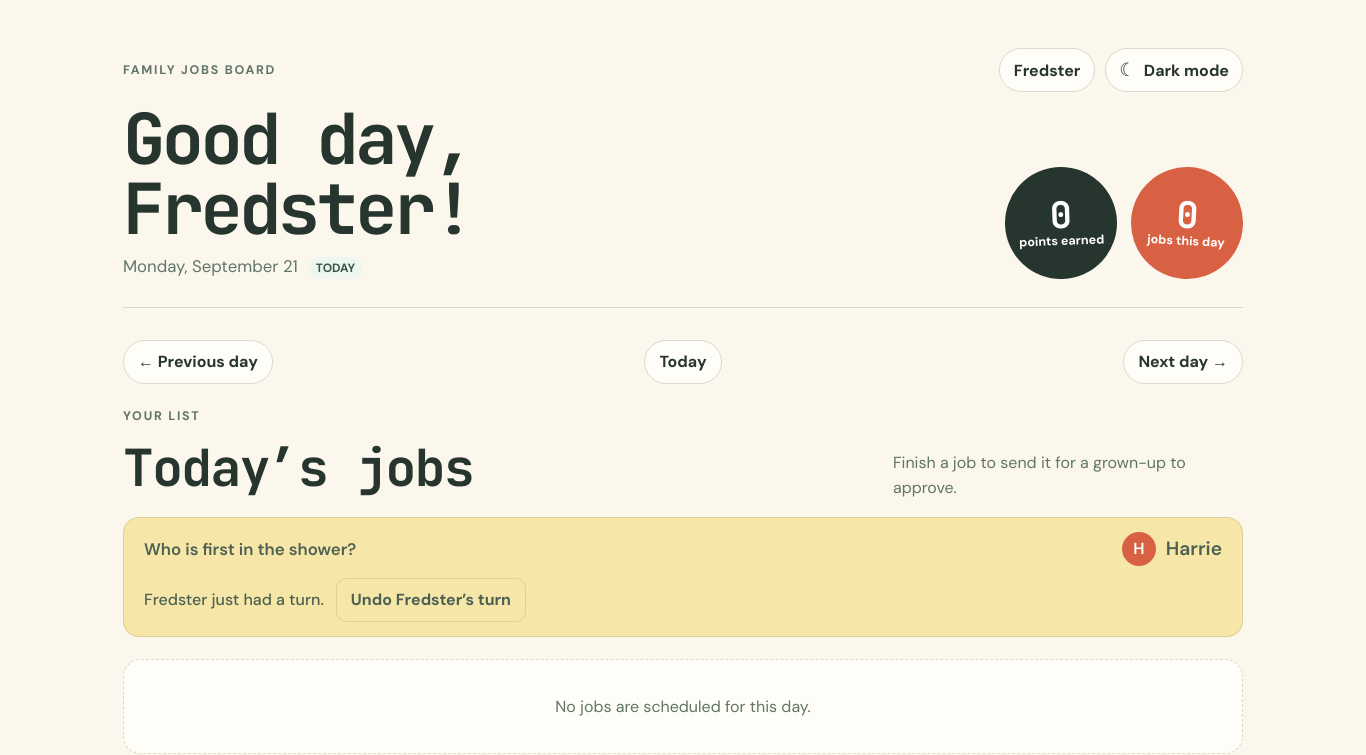
Test: Whose Turn Is It? › offers an undo once a two-child turn has passed to the other child
The image size is (1366, 755).
Expected: the text "Harrie" is shown, [1166,536,1222,561]
Expected: the text "Fredster just had a turn." is shown, [144,589,324,610]
Click the button "Undo Fredster’s turn": click(431, 600) [336,578,526,622]
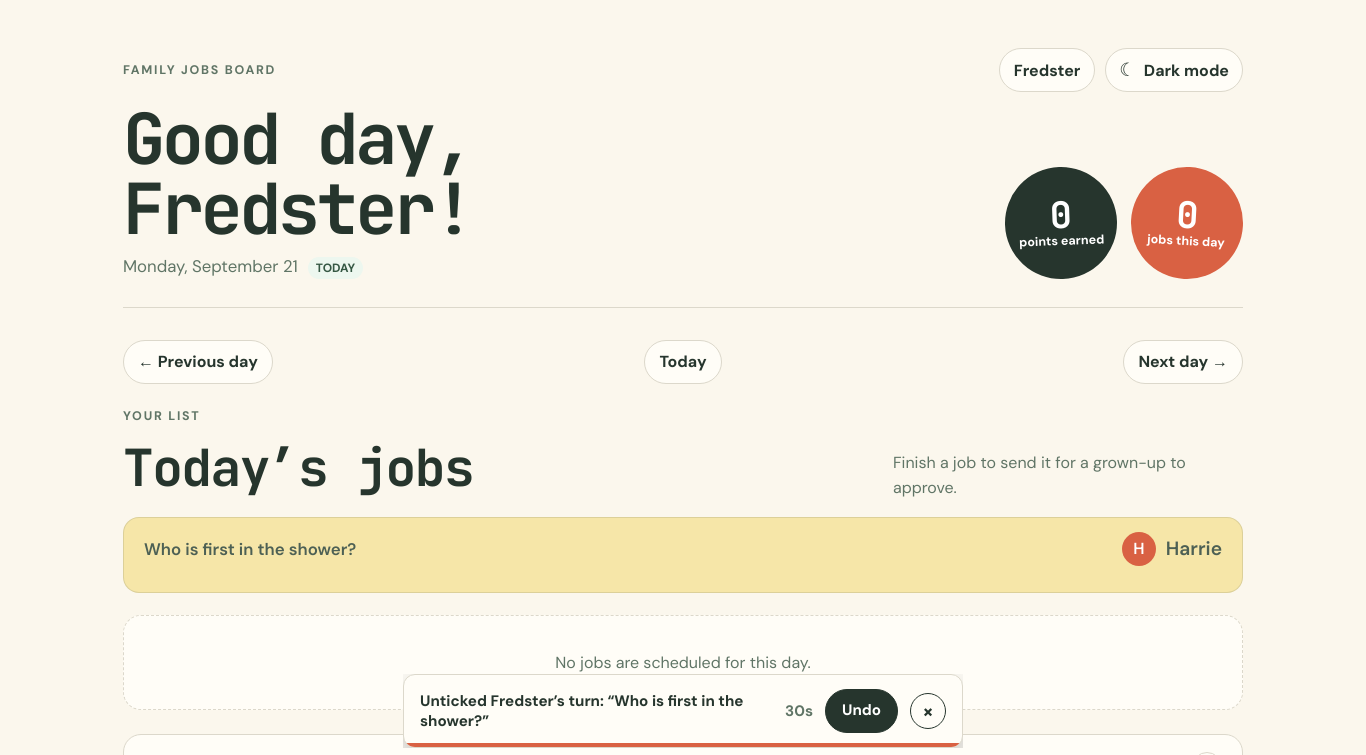
Now the text "Fredster just had a turn." is gone
Click the button named "Dismiss and save now": click(928, 711) [910,693,946,729]
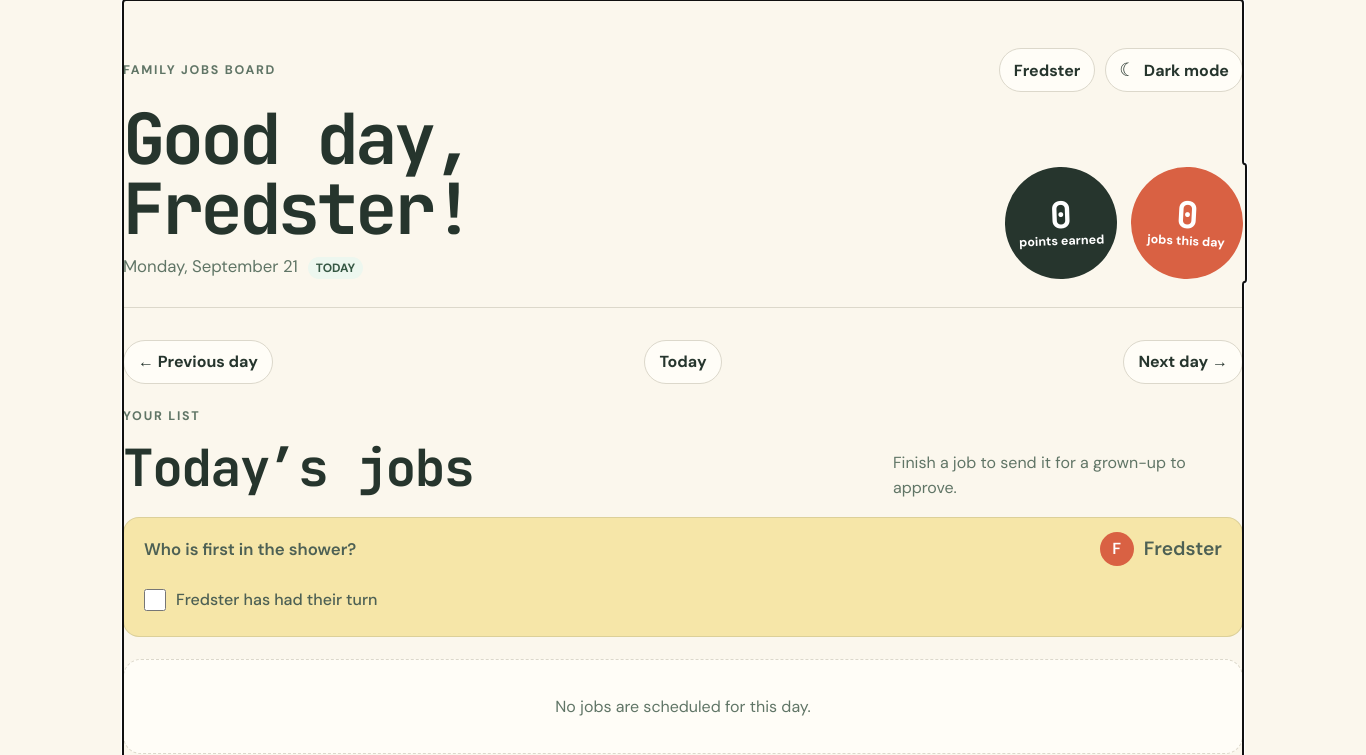
Now the checkbox labelled "Fredster has had their turn" is shown, box [144,589,166,611]
